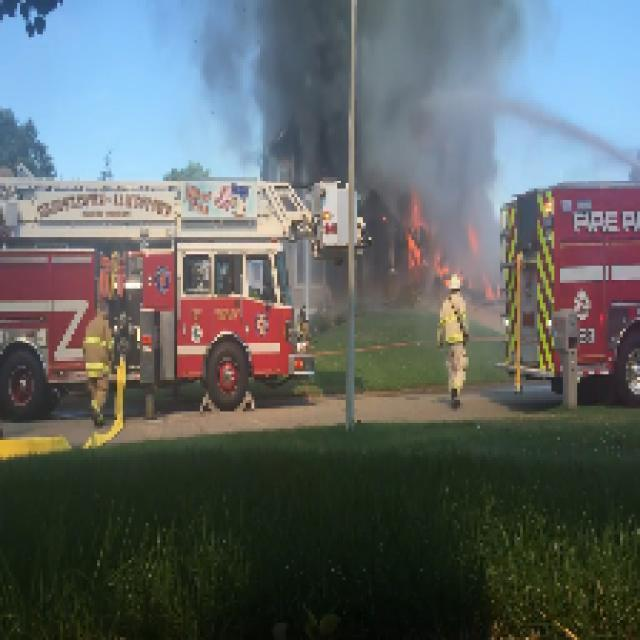Smoke: (278, 3, 511, 198)
